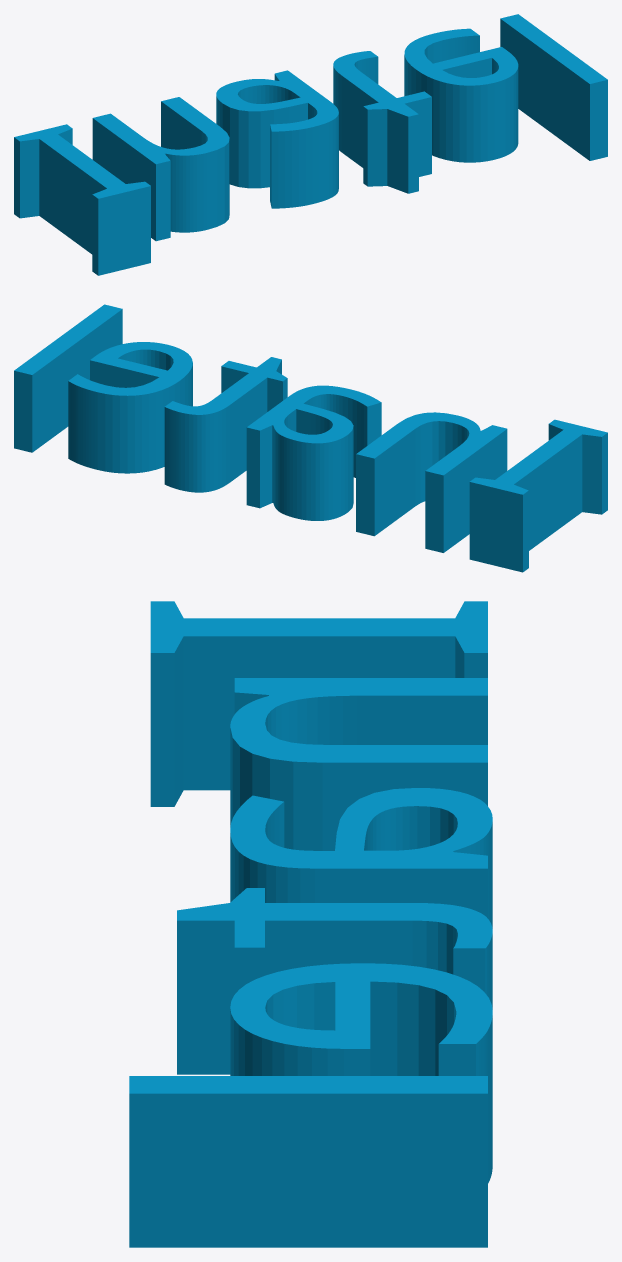
File: tinker.obj
3 views of the same model, one above another, from view 1: azimuth 30°, elevation 25°; view 2: azimuth 150°, elevation 25°; view 3: azimuth 270°, elevation 25° (orthographic). The views are drawn at different scales.
Parts seen in each view (by area): view 1: obj_0; view 2: obj_0; view 3: obj_0.
Boxes of the visible parts, x1,y1,x2,y2 form: obj_0: (14,14,607,275); obj_0: (14,304,607,572); obj_0: (129,601,492,1247).
Bounding box in the file's own units: 68.52 × 10 × 21.38.
